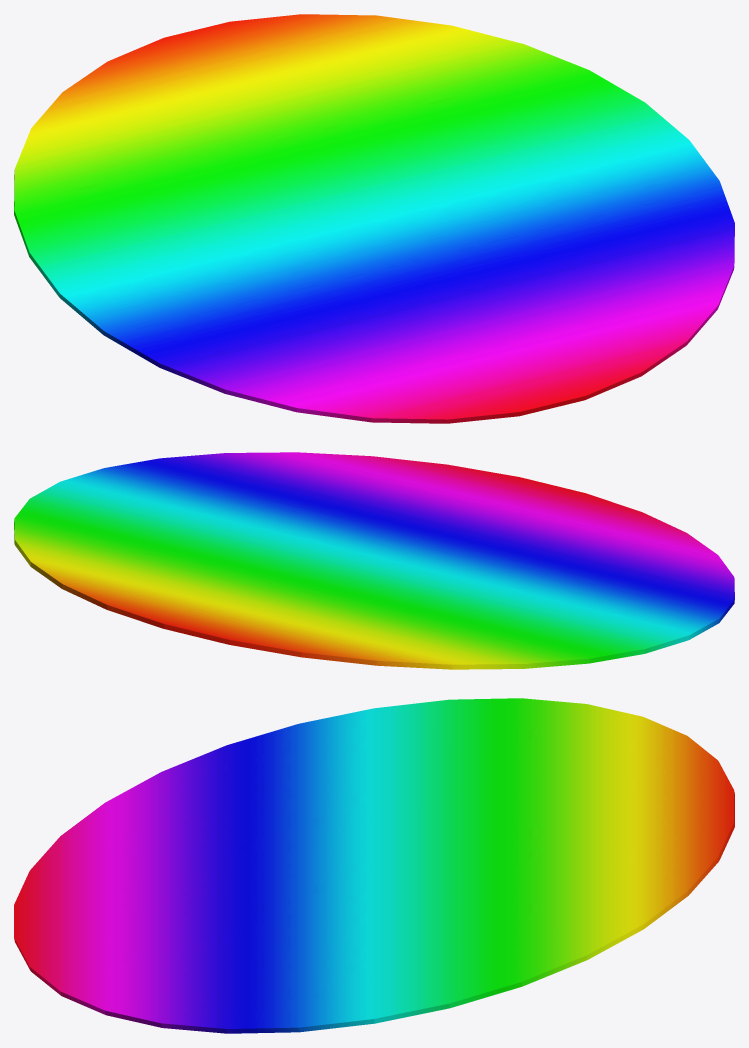
Rendered from carpet4.obj.
3 views of the same model, one above another, from view 1: azimuth 30°, elevation 25°; view 2: azimuth 150°, elevation 25°; view 3: azimuth 270°, elevation 25° (orthographic).
Bounding box in the file's own units: 7.94 × 1.43 × 7.78.
